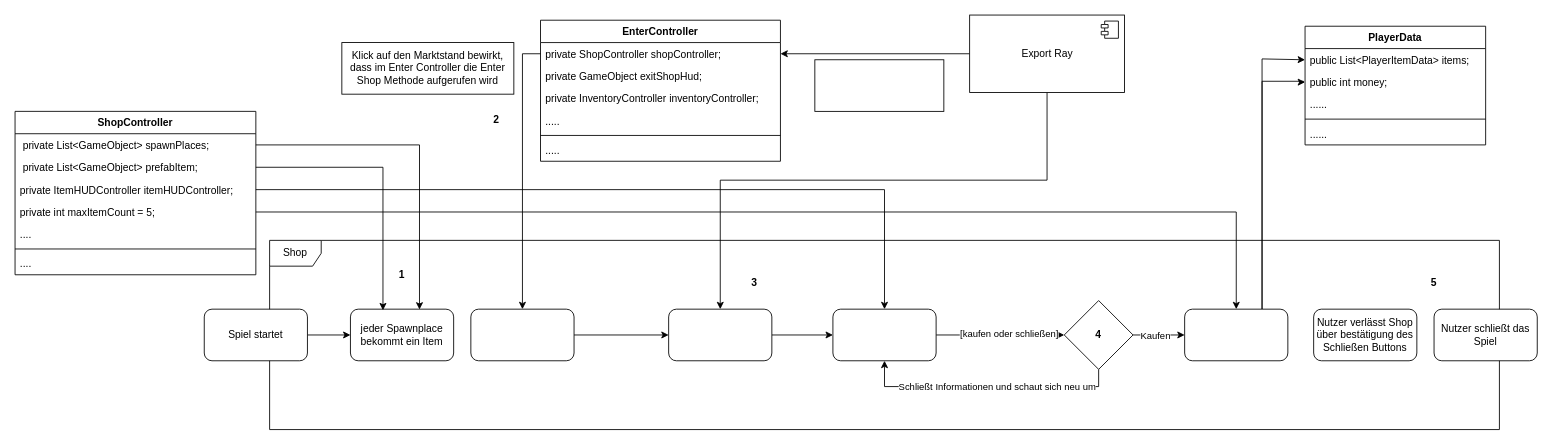
The diagram is 1552 pixels wide and 445 high, and some of its shapes have lost their labels. Each missing label, with the centre of its shape:
"hat Nutzer genug Geld und nicht schon zu viele Items kauft er ein Item" goes at point (1236, 334).
"Sieht Item Daten" goes at point (884, 334).
"Spieler sieht Verkaufsfläche" goes at point (522, 334).
"Spieler wählt Item aus" goes at point (720, 334).
"Wenn Spieler nah genug an Marktstand kann er ihn anklicken" goes at point (879, 85).
